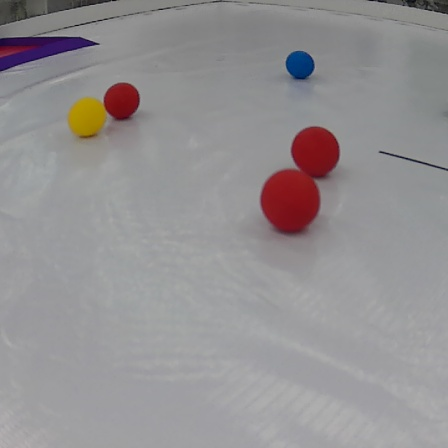blue: (285, 48, 325, 82)
red: (262, 165, 326, 233), (291, 121, 342, 175), (103, 82, 140, 119)
red_aim: (1, 34, 103, 70)
yellow: (66, 96, 106, 138)
